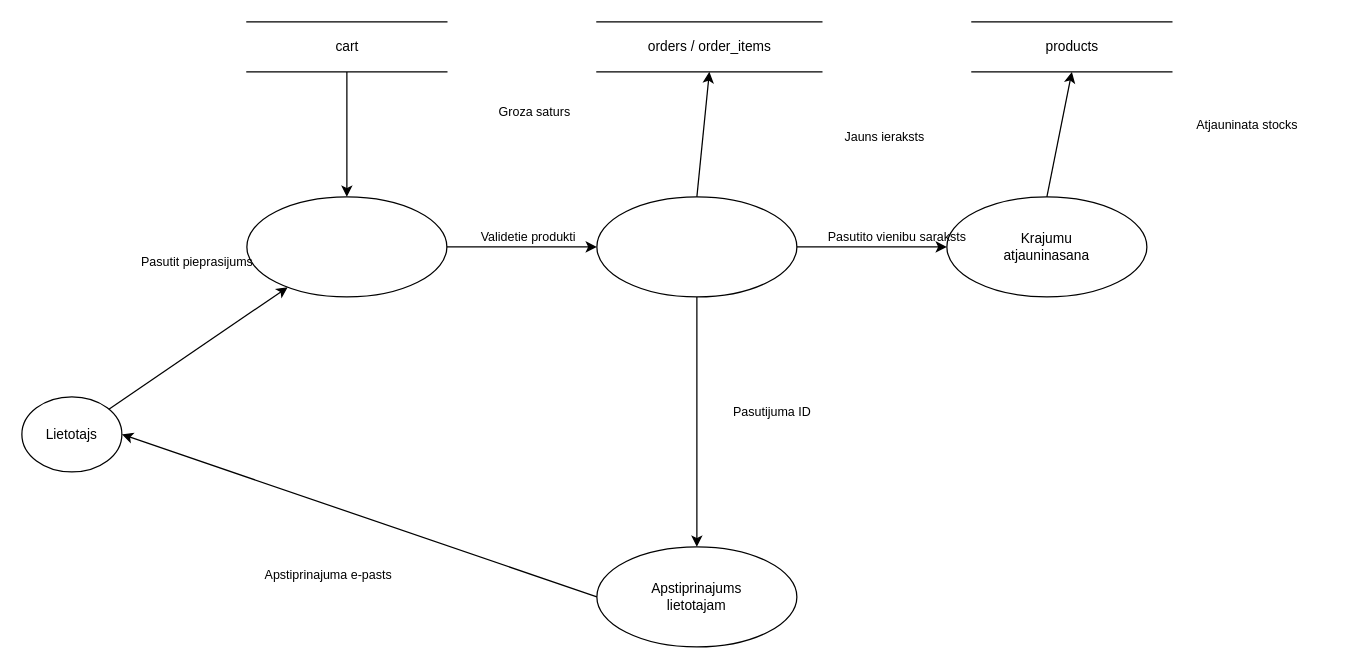
This 1356x669 diagram has some shape labels left out. Each missing label, with the centre of its shape:
"Groza satura parbaude" goes at [346,246].
"Pasutijuma izveide" goes at [696,246].
